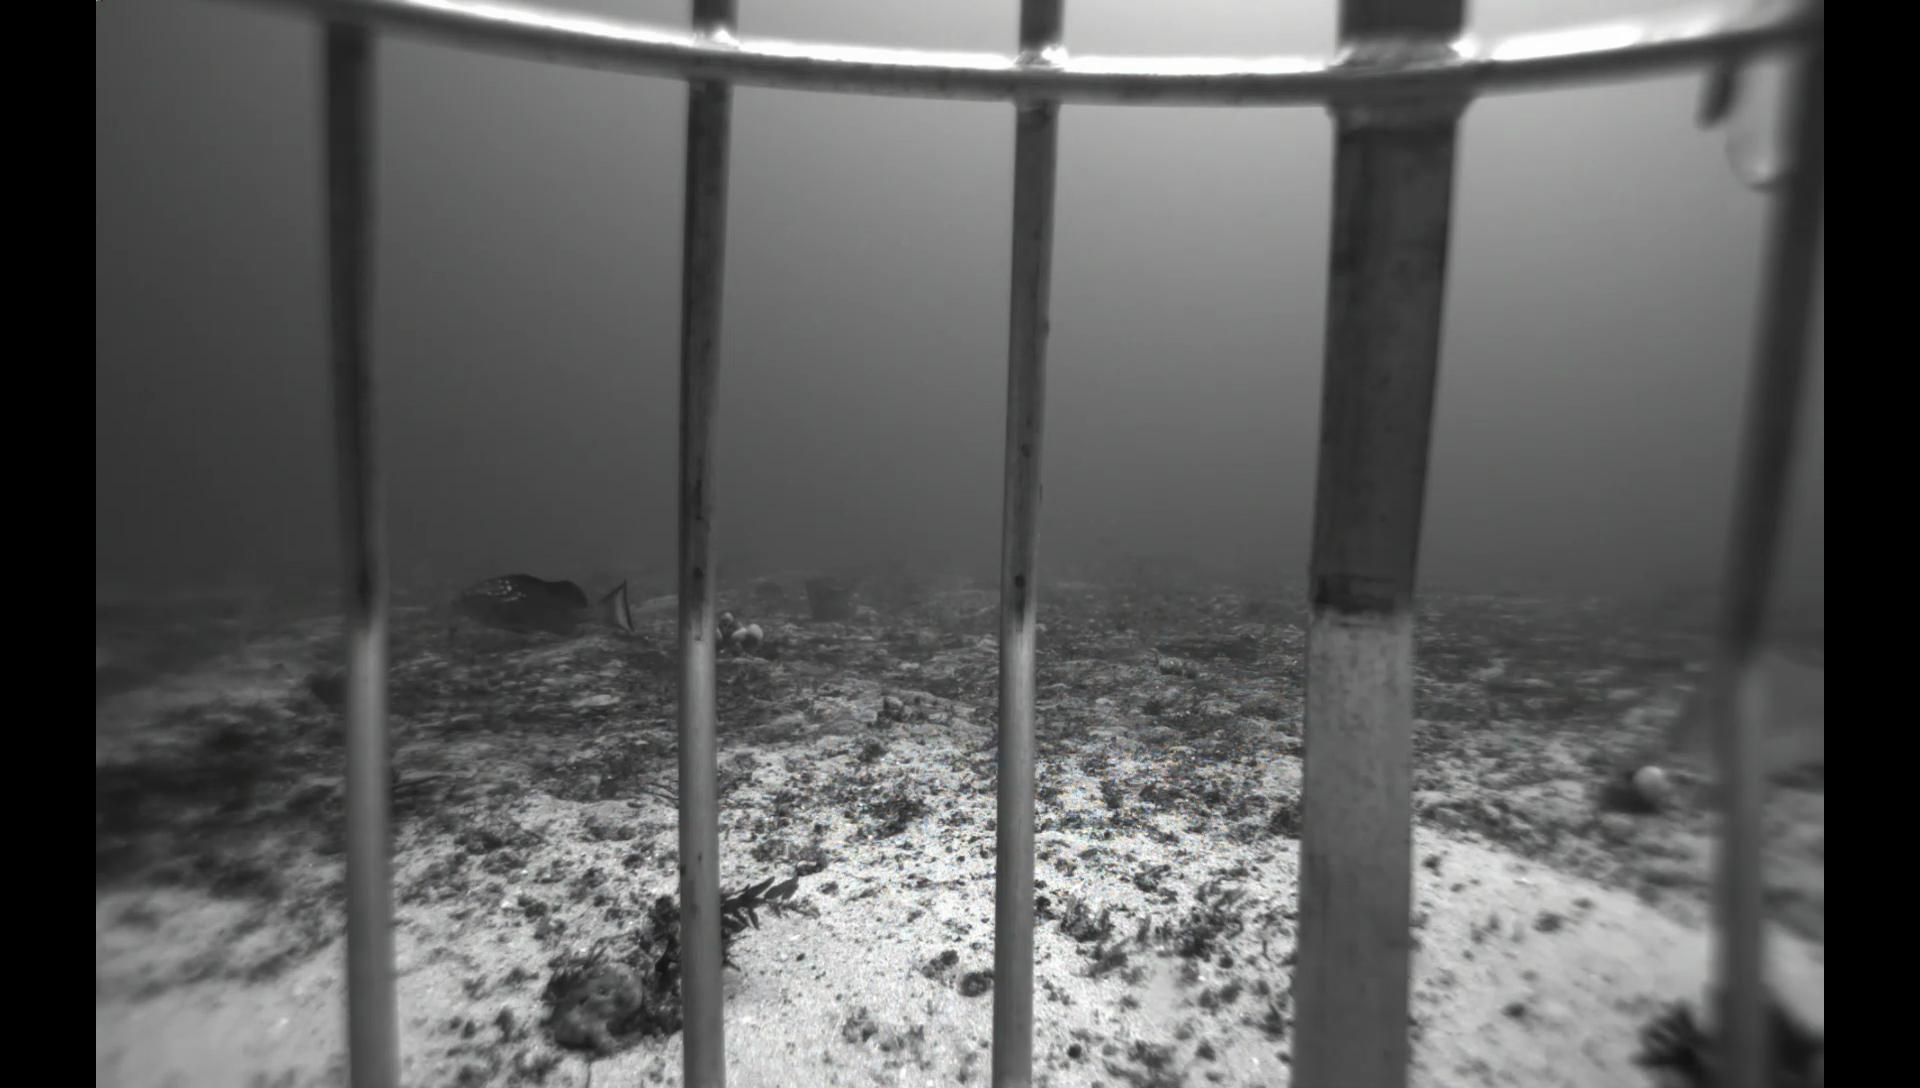CALAMUSNODOSUS-170210608: (1648, 642, 1825, 791)
CHAETODONOCELLATUS-170260307: (1054, 557, 1089, 582), (993, 574, 1000, 587)
EPINEPHELUSMORIO-170021211: (444, 572, 641, 645)
HALICHOERESBIVITTATUS-170281202: (158, 678, 206, 702)
PRISTIGENYSALTA-170050401: (307, 662, 349, 715)
